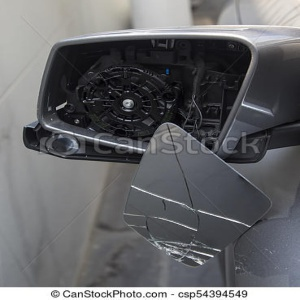side_mirror: (24, 29, 277, 266)
